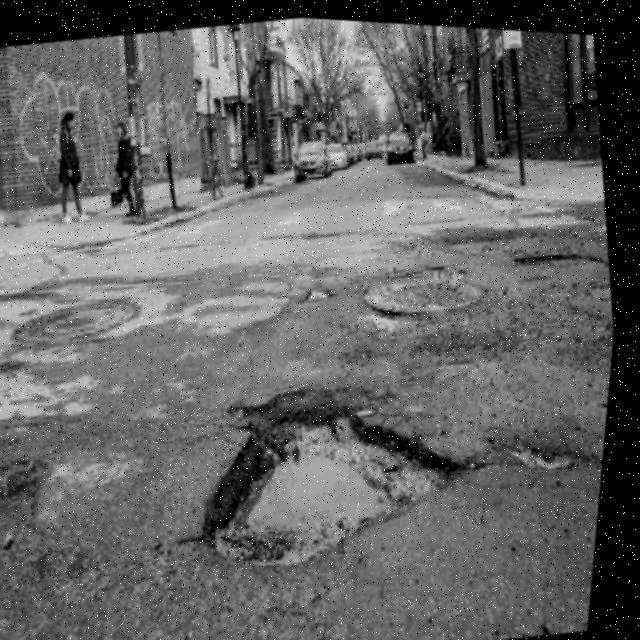pothole: (183, 355, 483, 588), (512, 229, 614, 279), (508, 411, 584, 475), (0, 454, 58, 512), (304, 275, 339, 302)
